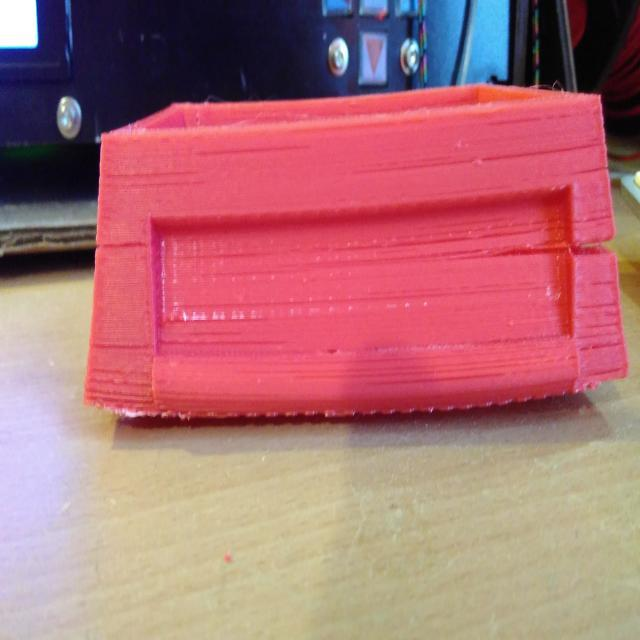Warping: (68, 355, 636, 462)
